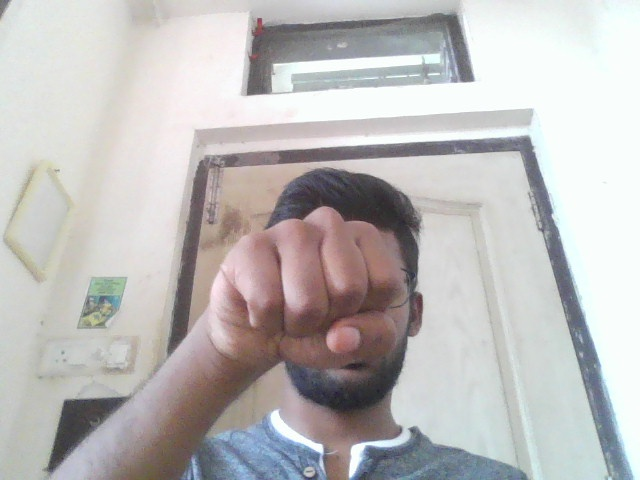No: (206, 205, 402, 372)
